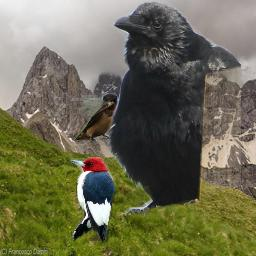Crow: (104, 0, 241, 216)
Swallow: (74, 93, 121, 147)
Woodpecker: (70, 154, 116, 245)
